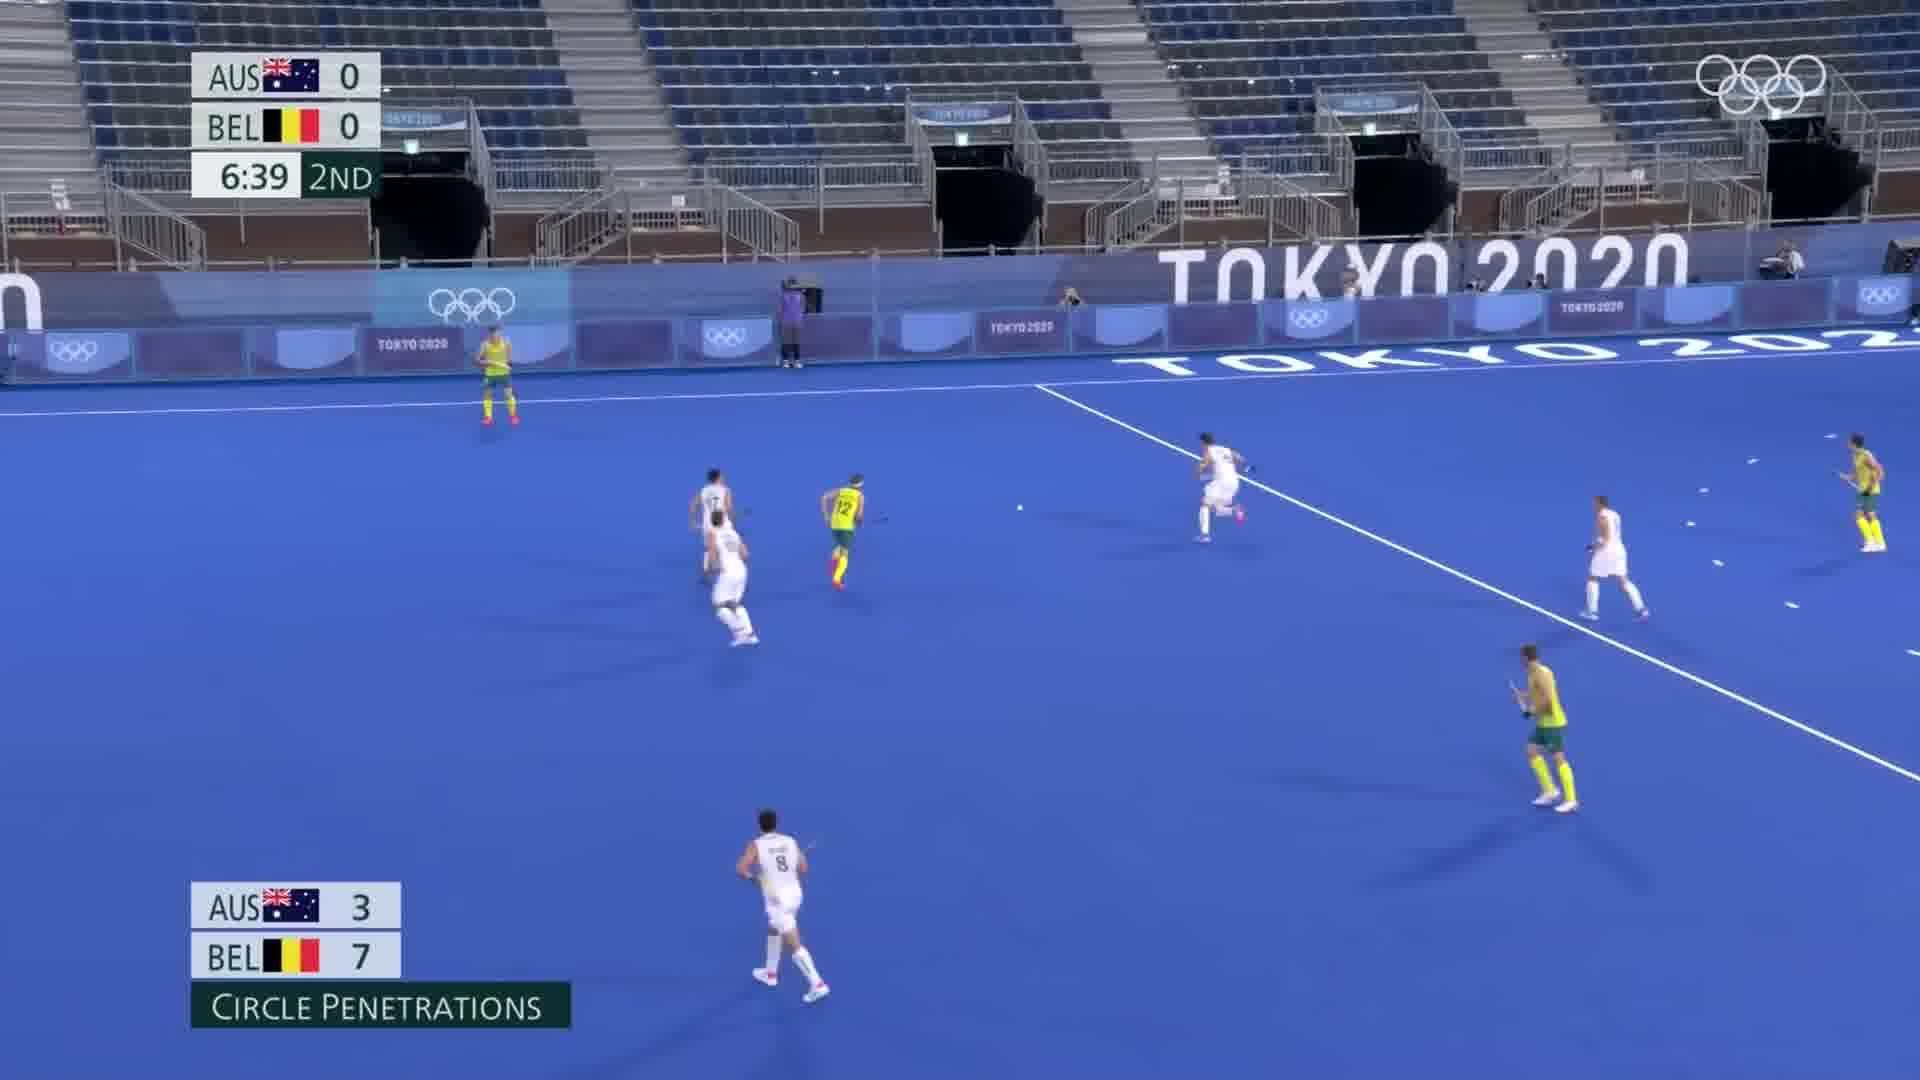ball: (1010, 500, 1029, 520)
